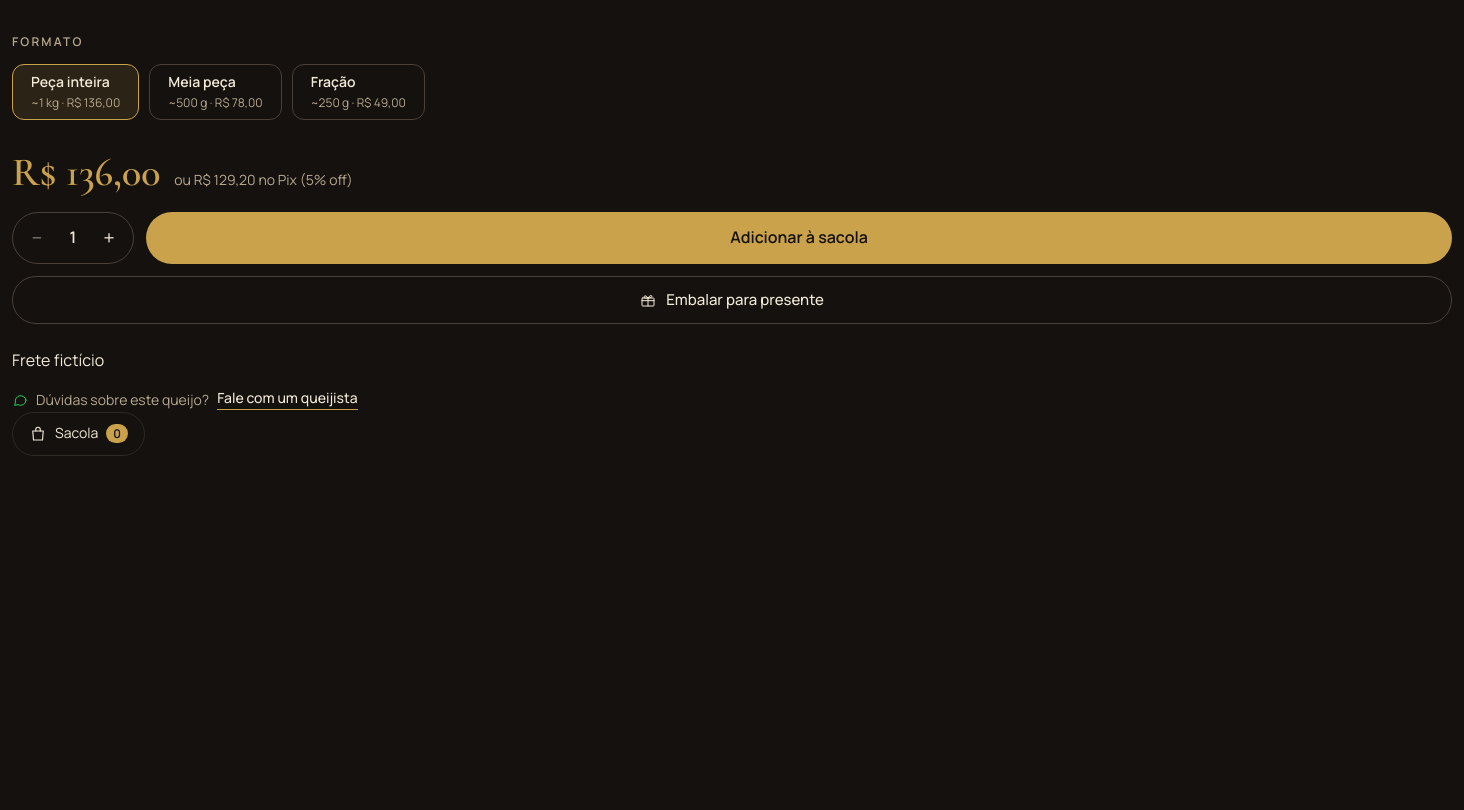
it: PainelDeCompra › "Meia peça" × 2 adiciona canastra-curado, meia, quantidade 2
The image size is (1464, 810).
Click the radio button labelled "Meia peça ~500 g · R$ 78,00": (216, 92) [149,64,282,120]
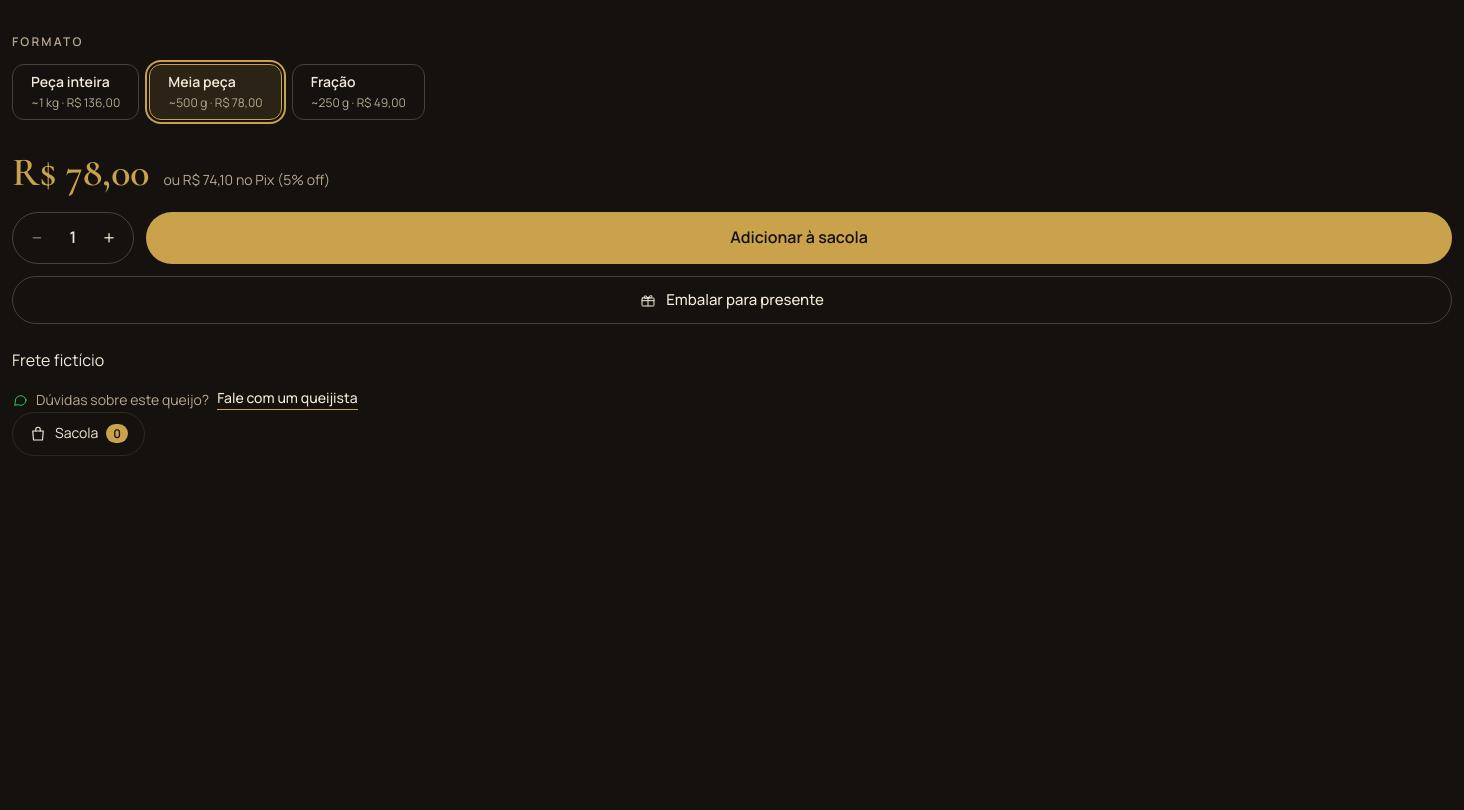
Click the button named "Aumentar quantidade": (109, 238) [85,212,133,264]
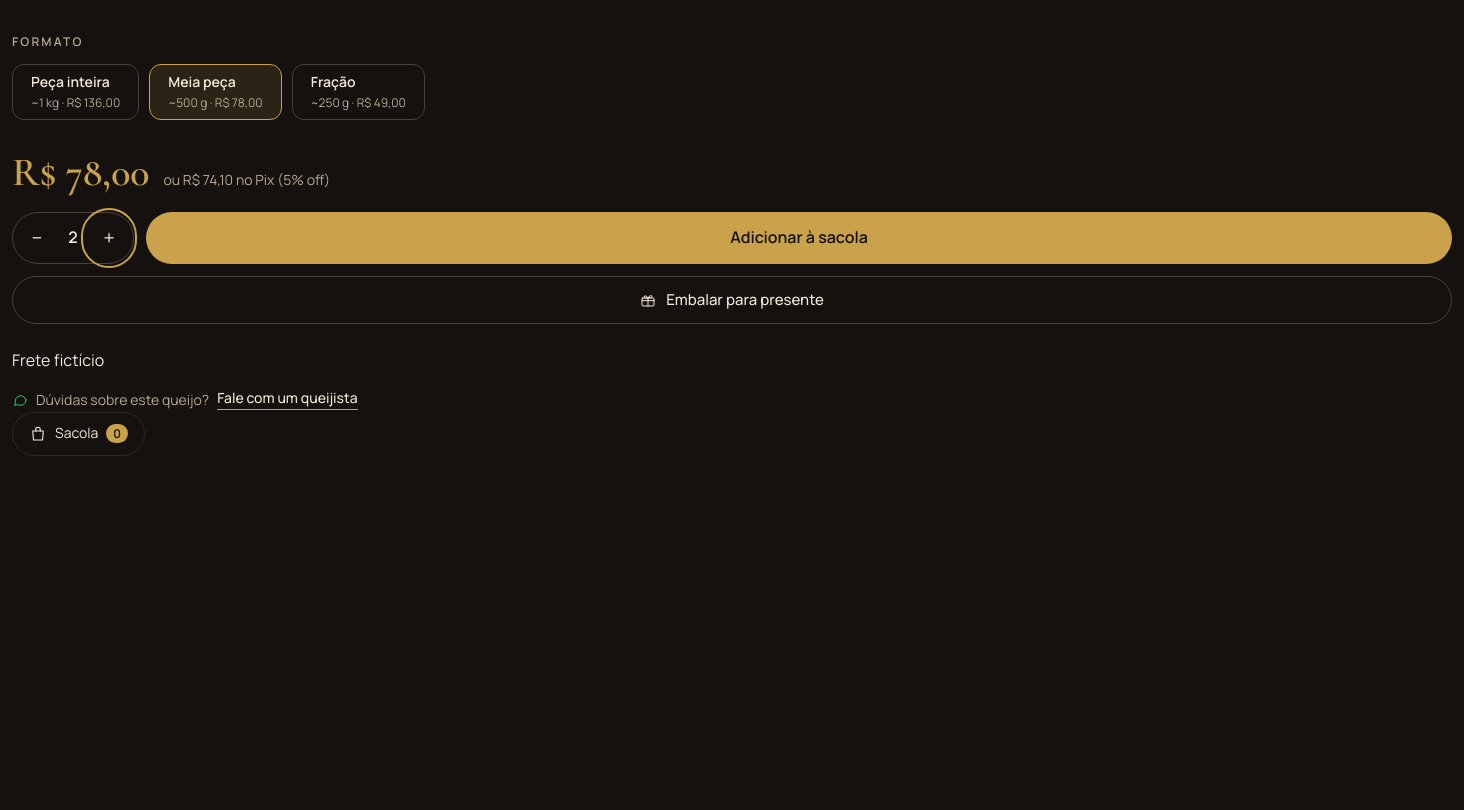
Click the button "Adicionar à sacola": (799, 238) [146,212,1452,264]
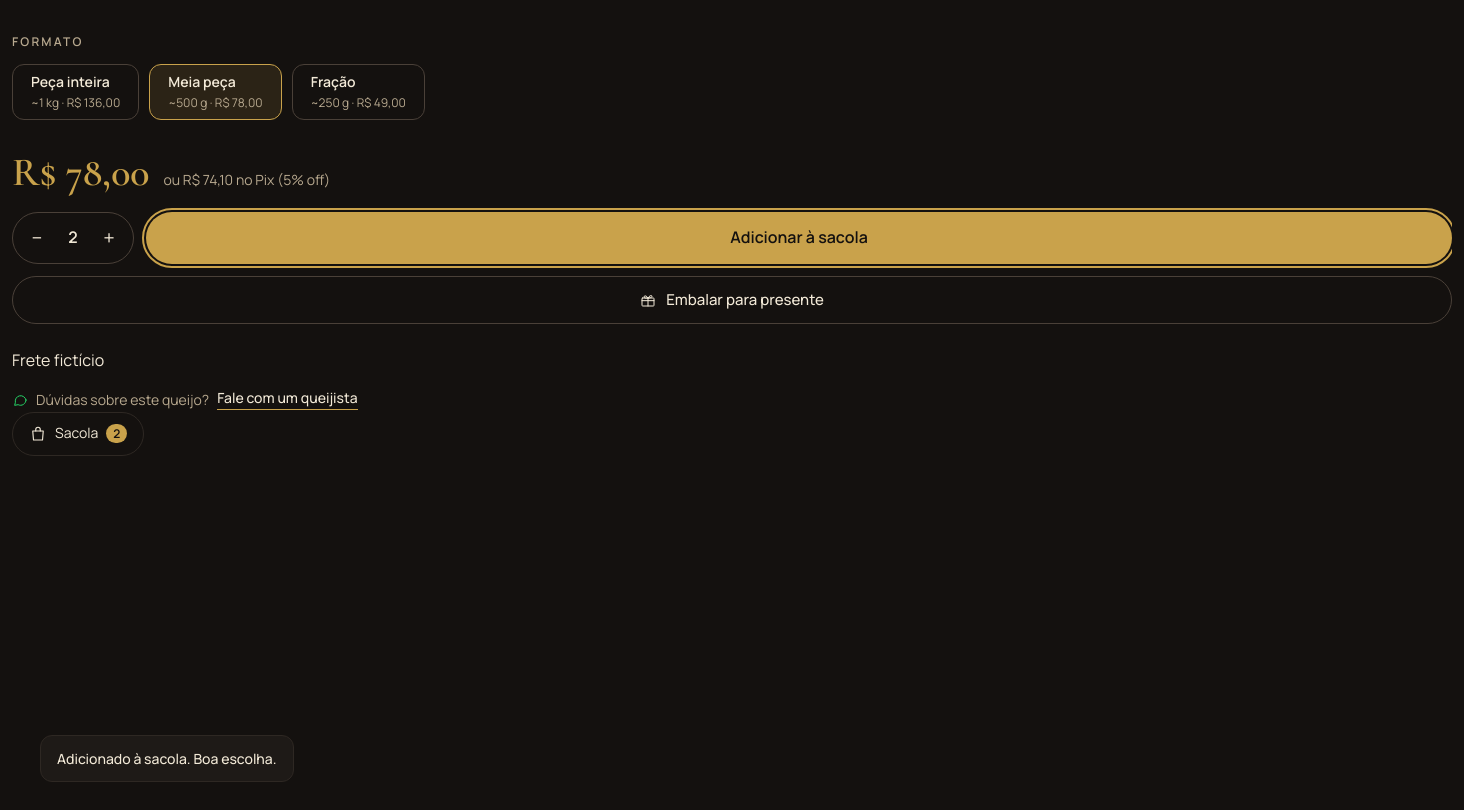
Check: the link named "Sacola 2 itens" is shown, box [12,412,144,456]
Check: the message "Adicionado à sacola. Boa escolha." is shown, box [40,735,294,782]
